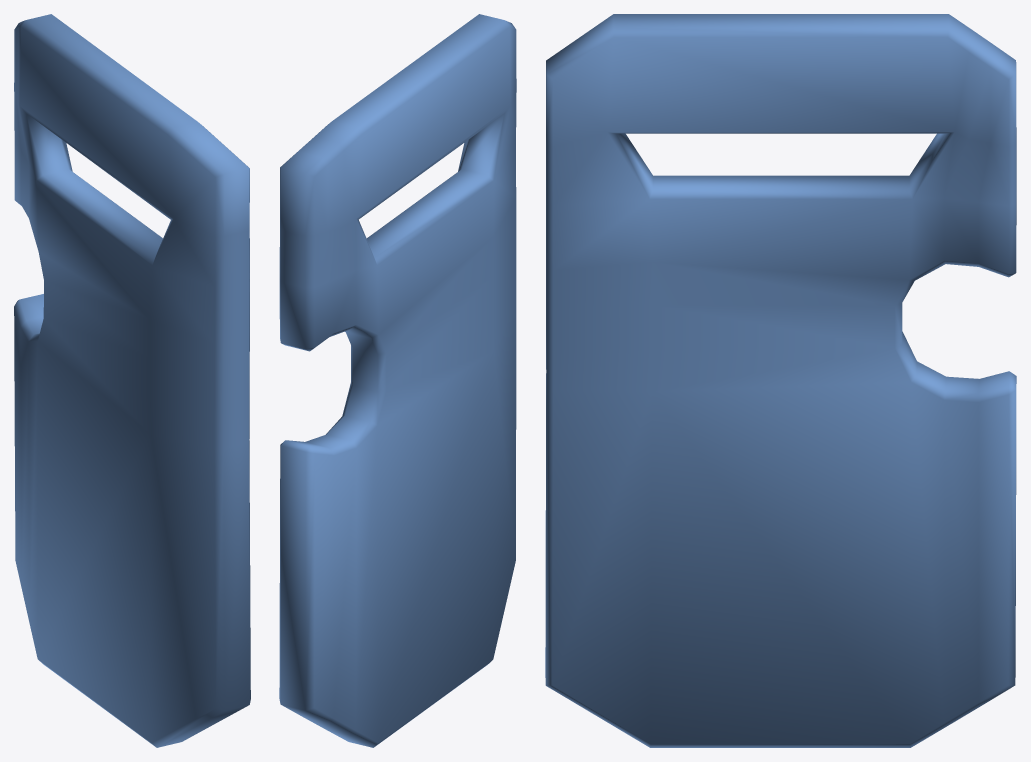
The model's file is EngiShield.dae.
3 views of the same model, side by side, from view 1: azimuth 30°, elevation 25°; view 2: azimuth 150°, elevation 25°; view 3: azimuth 270°, elevation 25° (orthographic). The views are drawn at different scales.
Parts seen in each view (by area): view 1: Model; view 2: Model; view 3: Model.
Boxes of the visible parts, left/top/right/bottom form: Model: left=14, top=14, right=250, bottom=747; Model: left=279, top=14, right=516, bottom=747; Model: left=545, top=14, right=1016, bottom=747.
Size of the model in its own units: 1.54 by 9.58 by 16.17.
